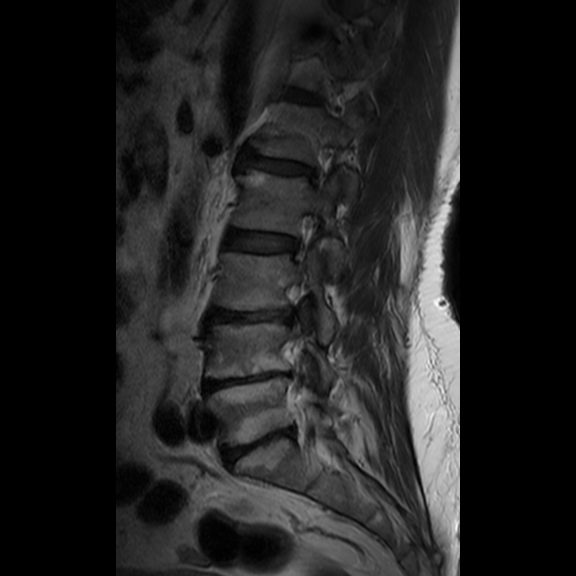LFS0: (280, 203, 338, 273)
